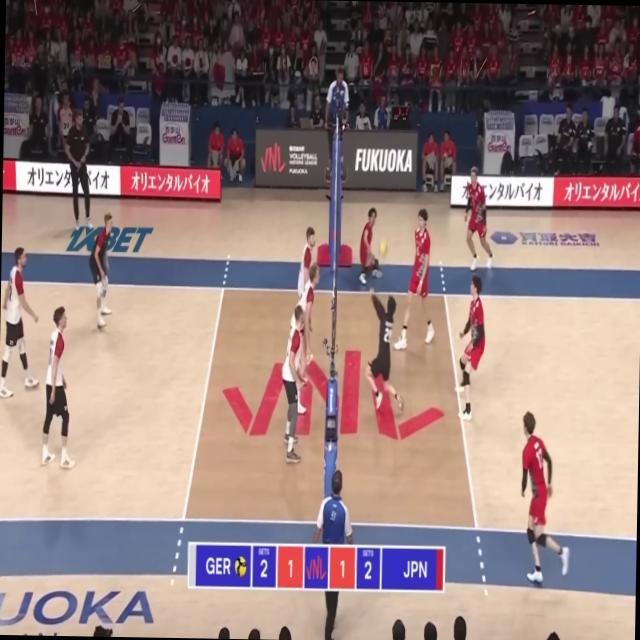referee: (311, 467, 355, 640)
team_one: (38, 304, 78, 470), (0, 245, 40, 399), (278, 304, 306, 464), (294, 262, 319, 385), (89, 212, 115, 329), (296, 226, 314, 330)
team_two: (516, 410, 571, 584), (394, 206, 436, 350), (366, 282, 404, 411), (454, 276, 484, 422), (461, 166, 494, 276), (358, 206, 384, 284)
